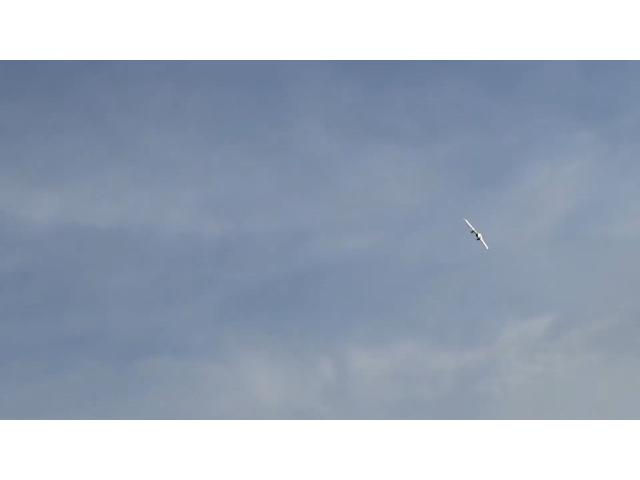Anti-Drone: (464, 218, 488, 250)
